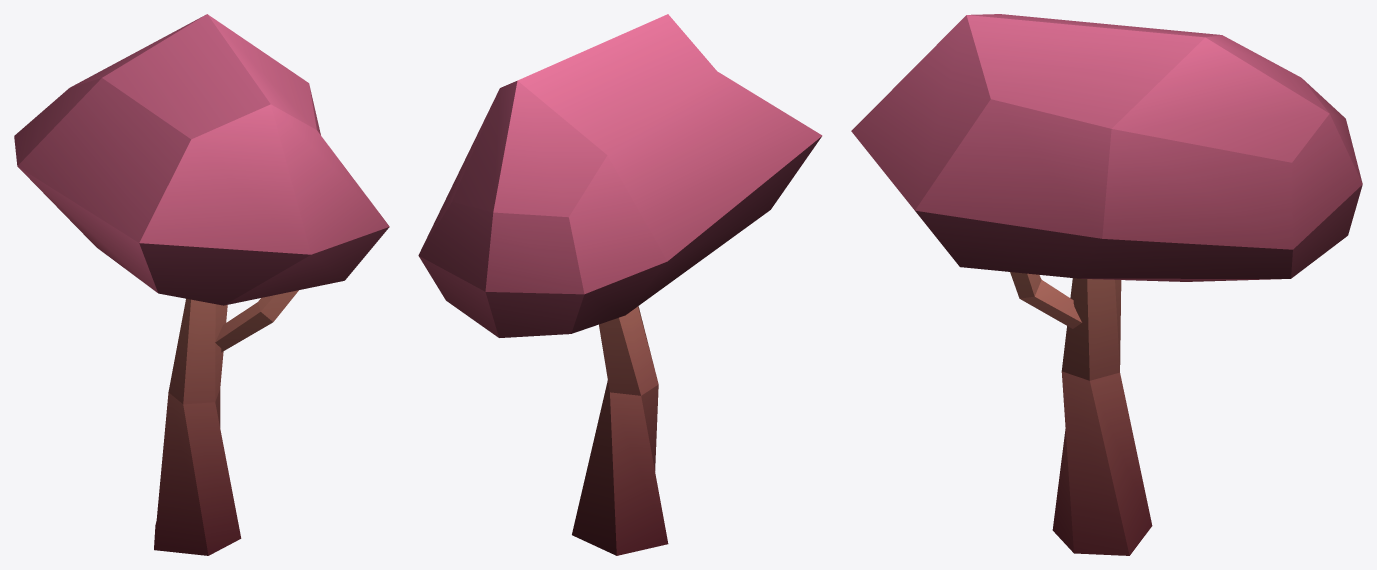
The model's file is Tree_Medium.fbx.
The picture shows the model from 3 angles, left to right: view 1: azimuth 30°, elevation 25°; view 2: azimuth 150°, elevation 25°; view 3: azimuth 270°, elevation 25°; orthographic projection. The views are drawn at different scales.
Visible parts, largest first — view 1: little head.001; view 2: little head.001; view 3: little head.001.
Part boxes in pixels (left/top/right/bottom): little head.001: left=14, top=14, right=389, bottom=555; little head.001: left=418, top=14, right=822, bottom=555; little head.001: left=851, top=14, right=1362, bottom=555.
Size of the model in its own units: 652 by 1126 by 986.
